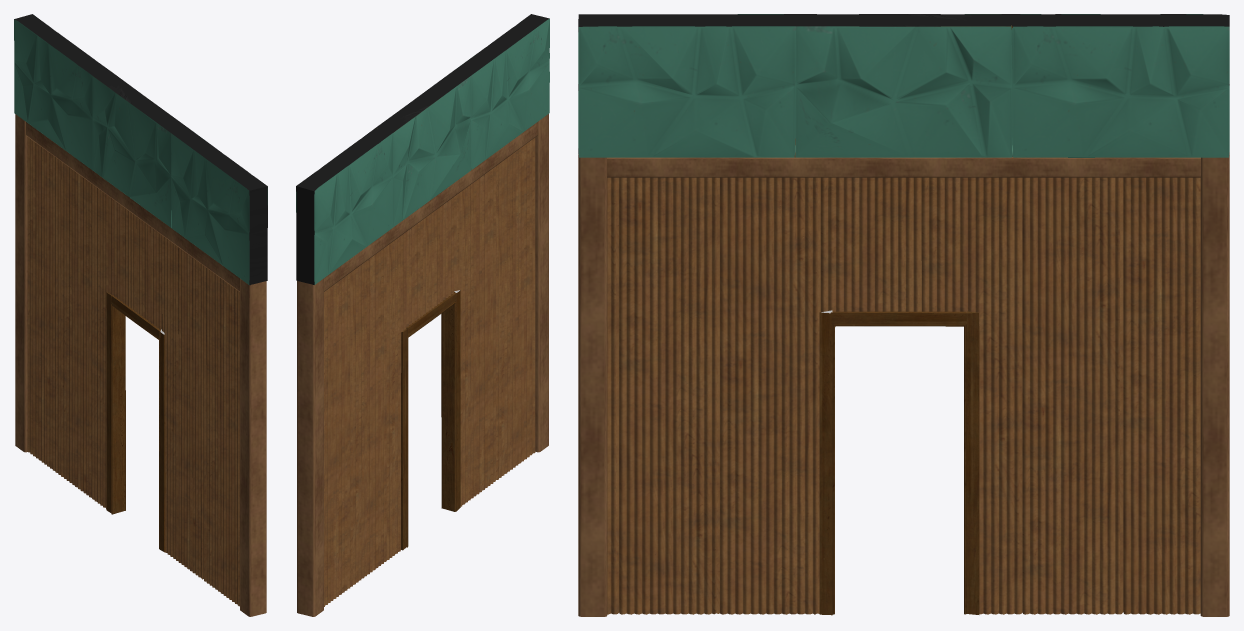
File: SM_Office_wall01h.fbx
3 renders of one model, left to right at view 1: azimuth 30°, elevation 25°; view 2: azimuth 150°, elevation 25°; view 3: azimuth 270°, elevation 25°, orthographic. The views are drawn at different scales.
Visible parts, largest first — view 1: SM_Office_wall01h_LOD0; view 2: SM_Office_wall01h_LOD0; view 3: SM_Office_wall01h_LOD0.
Boxes of the visible parts, bbox=[...] form: SM_Office_wall01h_LOD0: bbox=[14, 14, 267, 616]; SM_Office_wall01h_LOD0: bbox=[296, 14, 549, 616]; SM_Office_wall01h_LOD0: bbox=[578, 14, 1229, 616].
Size of the model in its own units: 24.72 by 450 by 451.
